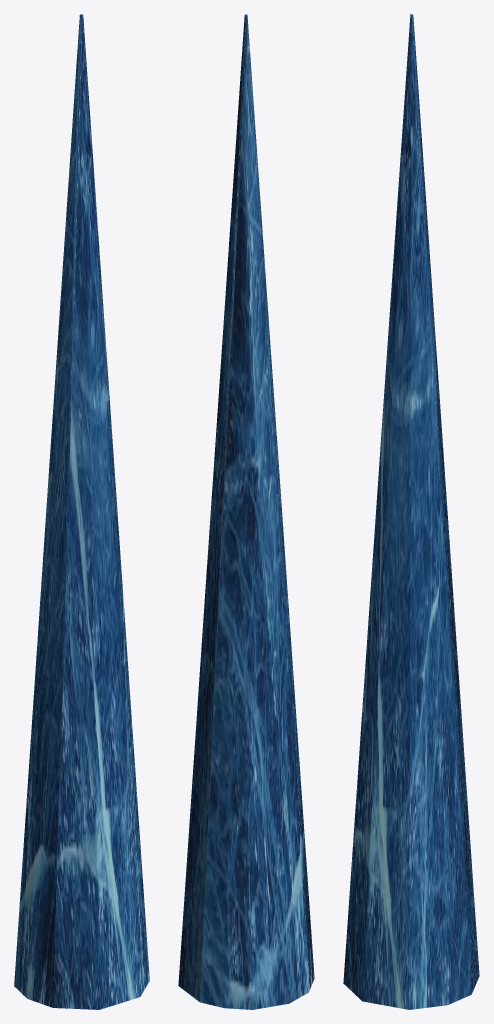
Rendered from pointyIceShard.fbx.
The picture shows the model from 3 angles, left to right: view 1: azimuth 30°, elevation 25°; view 2: azimuth 150°, elevation 25°; view 3: azimuth 330°, elevation 25°; orthographic projection.
Visible parts, largest first — view 1: Cylinder; view 2: Cylinder; view 3: Cylinder.
Boxes of the visible parts, x1,y1,x2,y2 form: Cylinder: (14, 14, 149, 1009); Cylinder: (178, 14, 314, 1009); Cylinder: (343, 14, 479, 1009).
Bounding box in the file's own units: 25.49 × 200 × 25.04.
